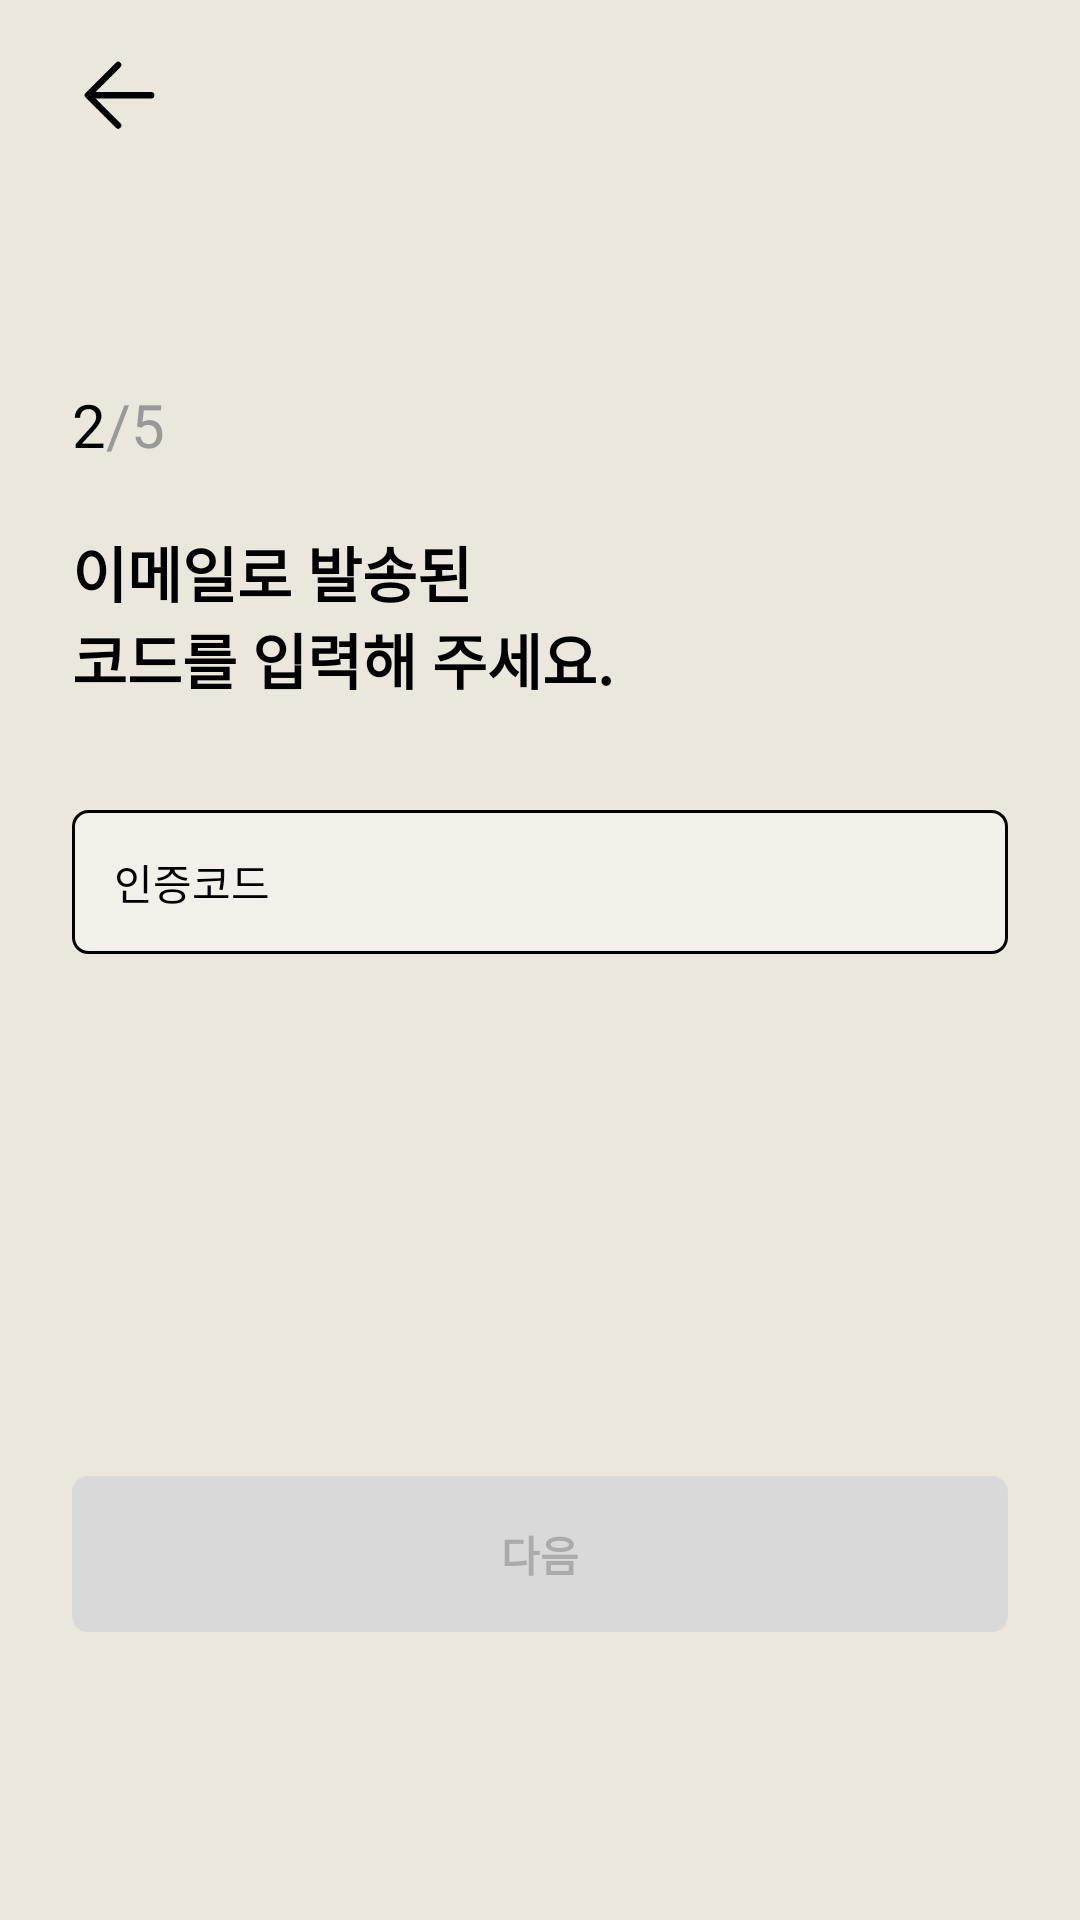

Where icons sit on this 1080*1920 app screen, as (x1, y1, x2, y2):
back: (84, 61, 155, 129)
